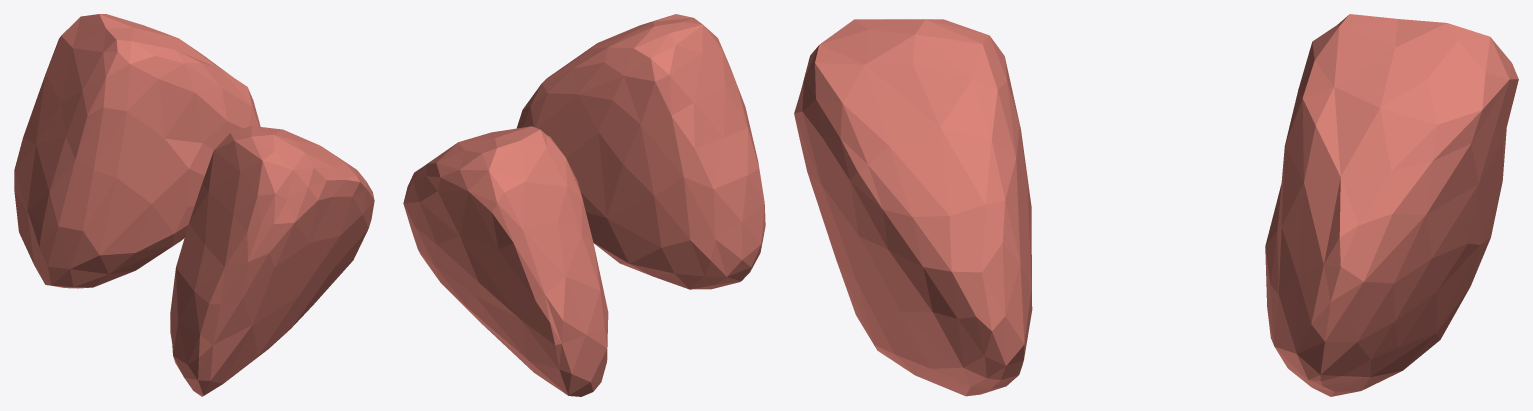
3 renders of one model, left to right at view 1: azimuth 30°, elevation 25°; view 2: azimuth 150°, elevation 25°; view 3: azimuth 270°, elevation 25°, orthographic. The views are drawn at different scales.
Visible parts, largest first — view 1: 606826651.obj; view 2: 606826651.obj; view 3: 606826651.obj.
Part boxes in pixels (x1,y1,x2,y2): 606826651.obj: (14, 14, 374, 396); 606826651.obj: (403, 14, 765, 396); 606826651.obj: (794, 14, 1518, 396).
Bounding box in the file's own units: 533 × 587 × 975.
